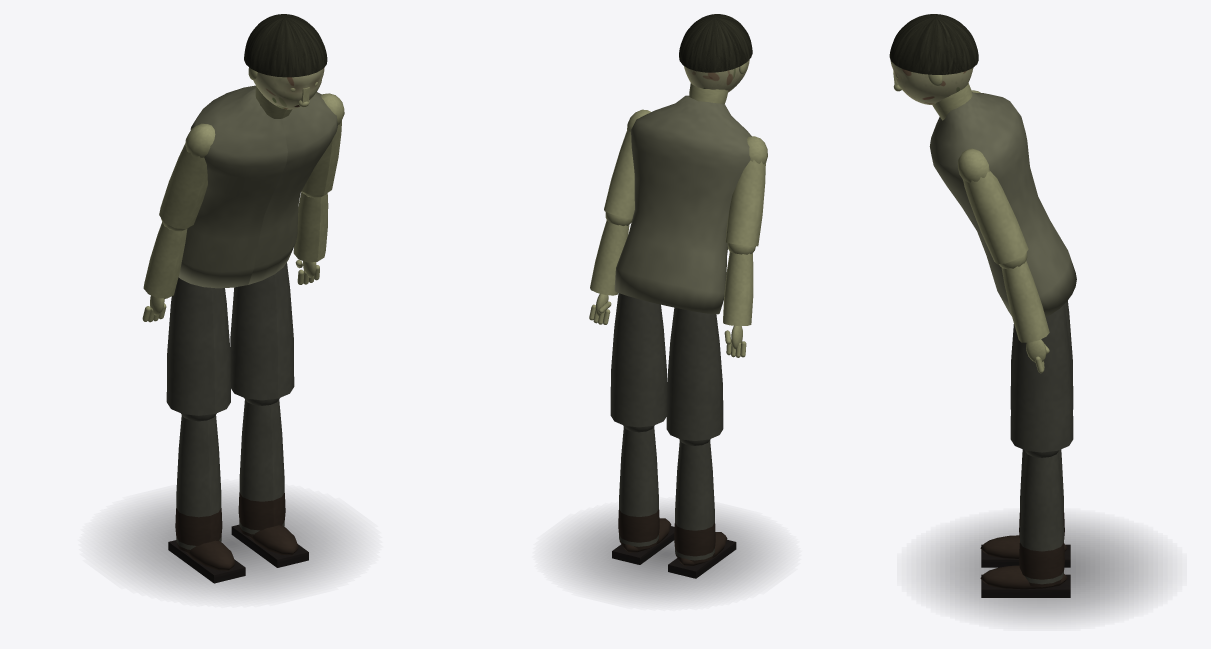
Rendered from enemy_ghoul.glb.
3 views of the same model, side by side, from view 1: azimuth 30°, elevation 25°; view 2: azimuth 150°, elevation 25°; view 3: azimuth 270°, elevation 25° (orthographic). The views are drawn at different scales.
Visible parts, largest first — view 1: chest, object 11, legL, shinL, shinR, legR, head, armL, foreL, foreR, armR; view 2: chest, object 11, legL, legR, shinL, shinR, head, armL, foreL, foreR, armR; view 3: object 11, chest, shinR, legR, head, armR, foreR, shinL, legL.
Part boxes in pixels (box(x1,y1,x2,y2)): chest: box(178, 85, 337, 288); object 11: box(109, 492, 351, 594); legL: box(166, 277, 230, 415); shinL: box(168, 413, 245, 583); shinR: box(231, 398, 308, 567); legR: box(230, 262, 294, 400); head: box(244, 14, 327, 109); armL: box(159, 123, 215, 228); foreL: box(142, 218, 187, 322); foreR: box(293, 191, 328, 284); armR: box(302, 93, 344, 195); chest: box(614, 83, 751, 314); object 11: box(559, 509, 774, 598); legL: box(666, 307, 723, 440); legR: box(610, 293, 666, 427); shinL: box(668, 439, 736, 578); shinR: box(612, 425, 674, 564); head: box(679, 14, 752, 92); armL: box(725, 136, 767, 246); foreL: box(723, 243, 755, 357); foreR: box(589, 212, 632, 324); armR: box(604, 109, 650, 218); object 11: box(926, 521, 1157, 618); chest: box(929, 83, 1076, 316); shinR: box(980, 450, 1070, 597); legR: box(1010, 304, 1073, 452); head: box(889, 14, 978, 104); armR: box(957, 148, 1028, 264); foreR: box(999, 252, 1049, 373); shinL: box(980, 449, 1070, 567); legL: box(1010, 300, 1073, 409).
Size of the model in its own units: 0.868 by 1.73 by 0.868.
Materials: 7 (5 with a texture image).
